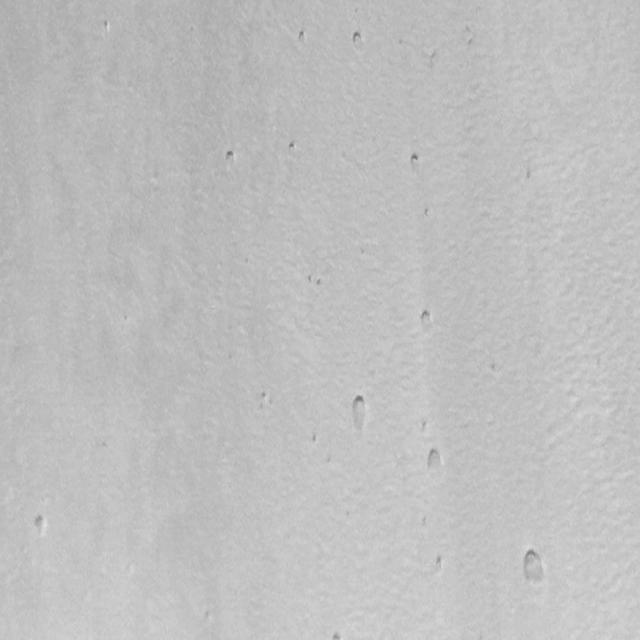pin holes: (521, 549, 553, 591), (349, 390, 375, 436), (422, 447, 446, 477), (30, 513, 51, 540), (418, 307, 439, 333), (254, 389, 275, 412), (349, 30, 369, 54), (220, 149, 240, 173), (308, 272, 330, 292), (407, 150, 425, 174), (431, 554, 448, 576), (288, 138, 303, 156), (296, 28, 310, 46), (201, 607, 215, 625), (100, 17, 113, 35), (308, 432, 322, 448), (419, 416, 431, 434), (420, 204, 432, 220), (331, 629, 348, 639), (490, 362, 496, 375), (526, 168, 532, 181), (123, 314, 130, 323), (361, 247, 366, 257), (245, 254, 248, 267), (398, 38, 402, 46)
